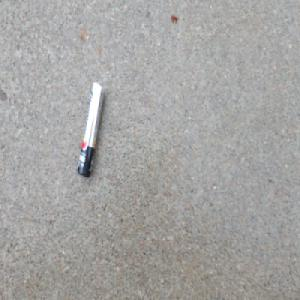Battery: (75, 79, 105, 178)
